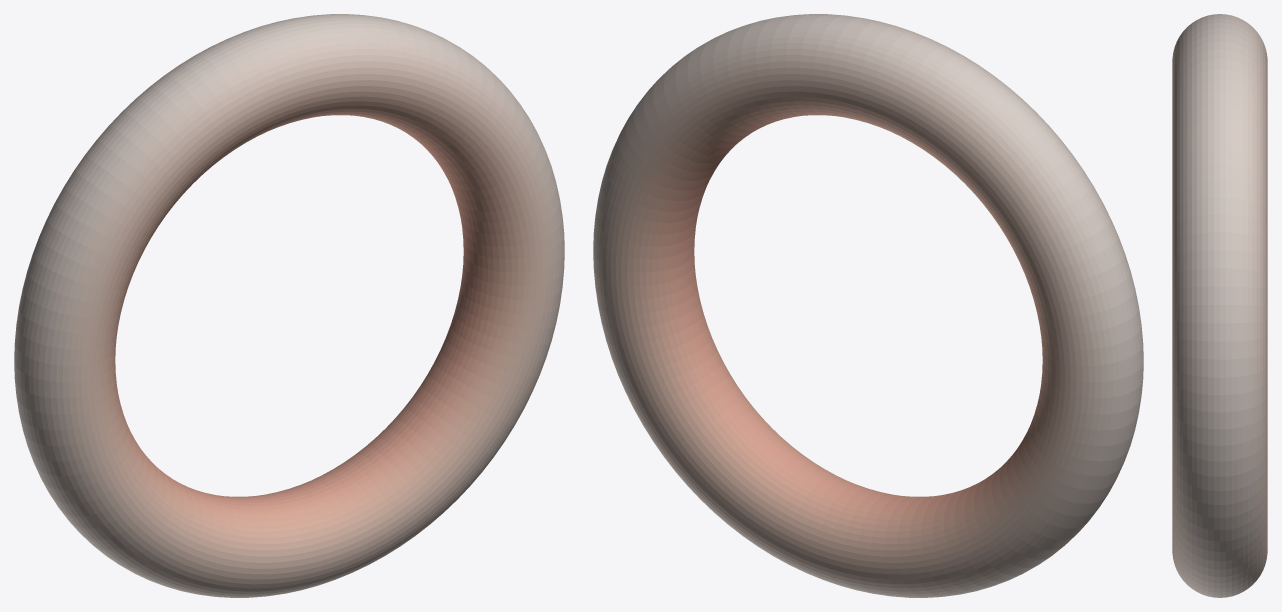
3 renders of one model, left to right at view 1: azimuth 30°, elevation 25°; view 2: azimuth 150°, elevation 25°; view 3: azimuth 270°, elevation 25°, orthographic. The views are drawn at different scales.
Parts seen in each view (by area): view 1: world; view 2: world; view 3: world.
Part boxes in pixels (box(x1,y1,x2,y2)): world: box(14, 14, 564, 597); world: box(593, 14, 1143, 597); world: box(1172, 14, 1267, 597).
Size of the model in its own units: 31.87 by 31.87 by 5.19.
